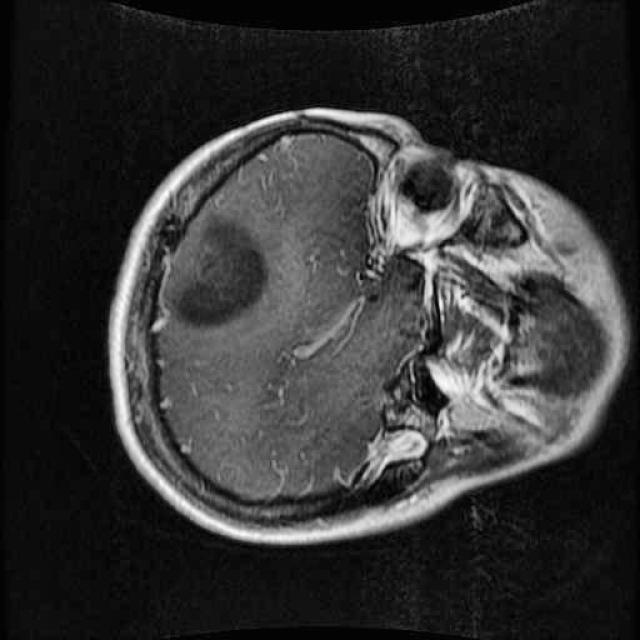Non-Tumor: (146, 186, 288, 345)
